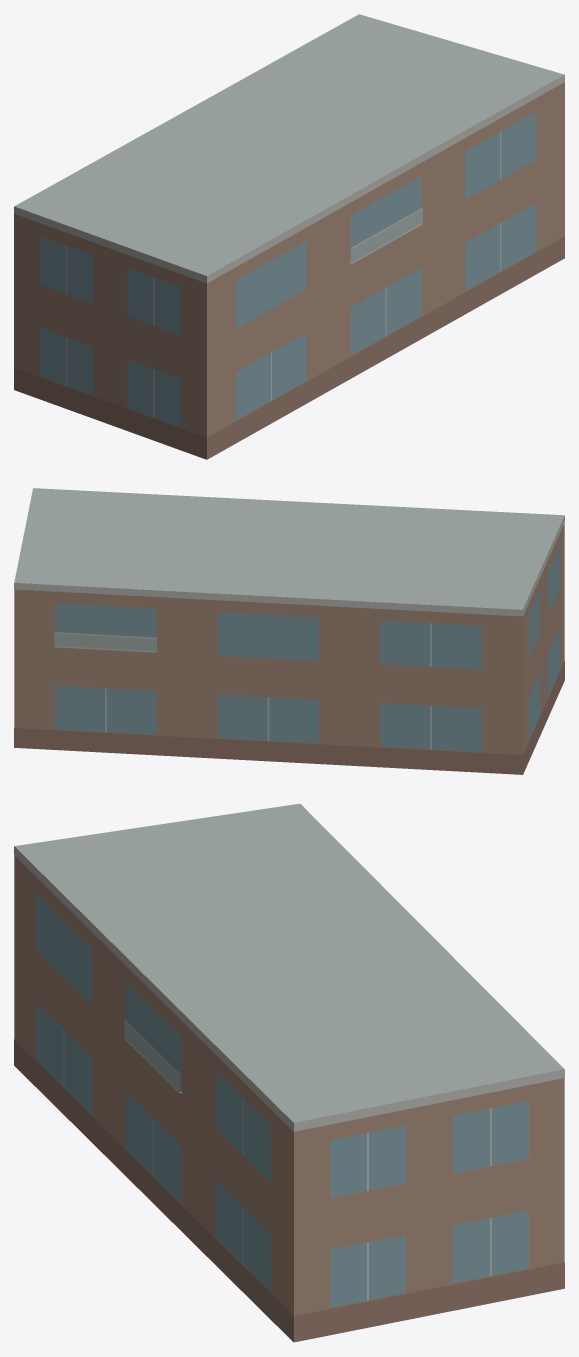
Rendered from survey-upis-32673739.glb.
3 renders of one model, top to bottom at view 1: azimuth 30°, elevation 25°; view 2: azimuth 150°, elevation 25°; view 3: azimuth 270°, elevation 25°, orthographic. The views are drawn at different scales.
Parts seen in each view (by area): view 1: survey-upis-32673739.tmp; view 2: survey-upis-32673739.tmp; view 3: survey-upis-32673739.tmp.
Boxes of the visible parts, x1,y1,x2,y2 form: survey-upis-32673739.tmp: (14,14,564,459); survey-upis-32673739.tmp: (14,488,564,774); survey-upis-32673739.tmp: (14,803,564,1342).
Size of the model in its own units: 19.07 by 6.1 by 13.89.
